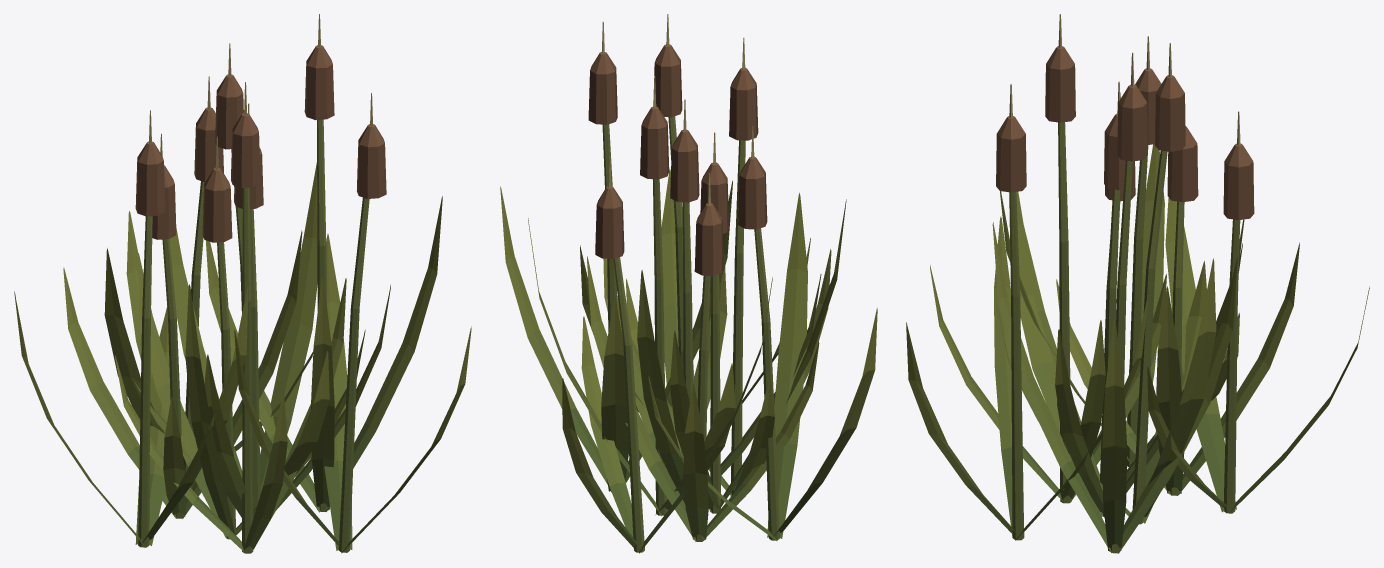
File: dressing-cattails.glb
3 renders of one model, left to right at view 1: azimuth 30°, elevation 25°; view 2: azimuth 150°, elevation 25°; view 3: azimuth 270°, elevation 25°, orthographic. The views are drawn at different scales.
Visible parts, largest first — view 1: cattail-stems-and-curved-reeds, cattail-brown-seedheads; view 2: cattail-stems-and-curved-reeds, cattail-brown-seedheads; view 3: cattail-stems-and-curved-reeds, cattail-brown-seedheads.
Part boxes in pixels (x1,y1,x2,y2): cattail-stems-and-curved-reeds: (14,14,471,553); cattail-brown-seedheads: (135,45,386,242); cattail-stems-and-curved-reeds: (500,14,877,553); cattail-brown-seedheads: (588,44,767,275); cattail-stems-and-curved-reeds: (906,14,1369,553); cattail-brown-seedheads: (996,46,1254,220).
Bounding box in the file's own units: 1.58 × 1.81 × 1.52.
